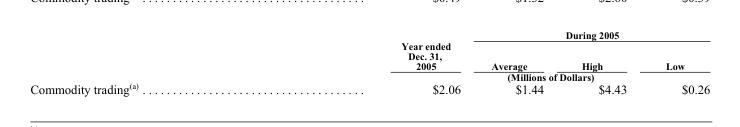table: (29, 29, 709, 96)
table column: (29, 29, 269, 96), (269, 29, 475, 96), (475, 29, 562, 96), (562, 29, 645, 96), (645, 29, 709, 96)
table column header: (29, 29, 709, 81)
table row: (29, 29, 709, 50), (29, 50, 709, 70), (29, 81, 709, 96), (29, 70, 709, 81)
table spanning cell: (269, 29, 475, 70), (475, 29, 709, 50), (269, 70, 709, 81)
